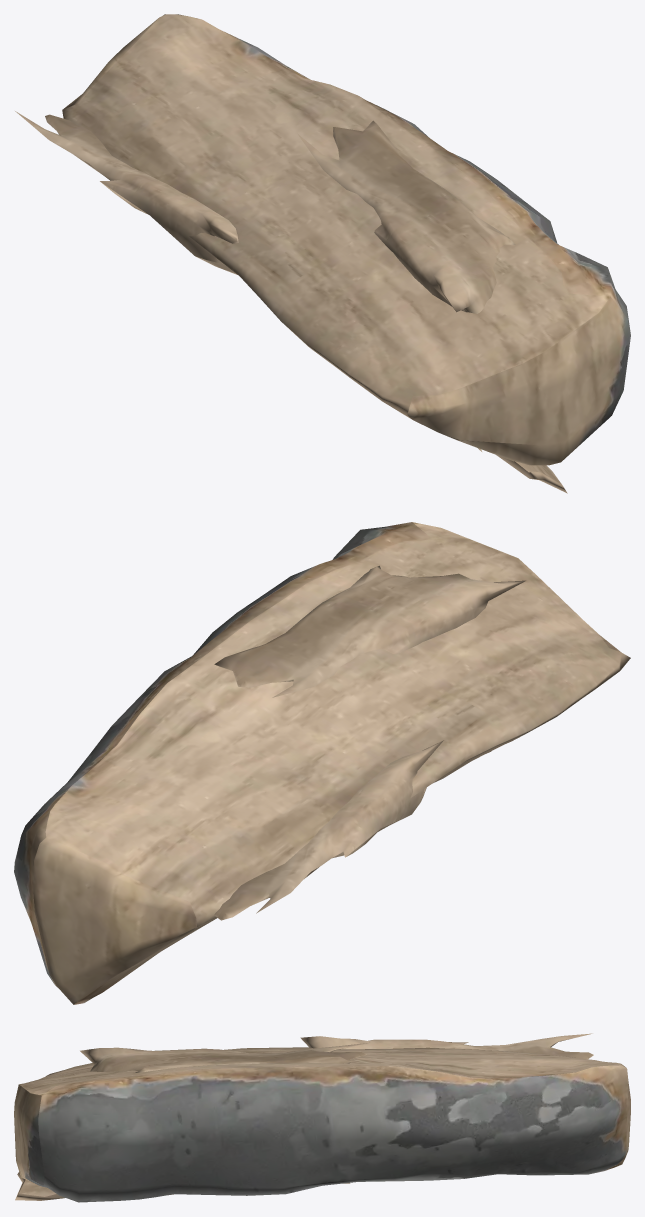
3 views of the same model, one above another, from view 1: azimuth 30°, elevation 25°; view 2: azimuth 150°, elevation 25°; view 3: azimuth 270°, elevation 25° (orthographic). The views are drawn at different scales.
Parts seen in each view (by area): view 1: SM_Chopped_Oak_Log_02_LOD0; view 2: SM_Chopped_Oak_Log_02_LOD0; view 3: SM_Chopped_Oak_Log_02_LOD0.
Boxes of the visible parts, x1,y1,x2,y2 form: SM_Chopped_Oak_Log_02_LOD0: (15,14,630,493); SM_Chopped_Oak_Log_02_LOD0: (14,522,630,1004); SM_Chopped_Oak_Log_02_LOD0: (14,1033,630,1202).
Size of the model in its own units: 0.2607 by 0.1902 by 0.7021.
Materials: 1 (1 with a texture image).
